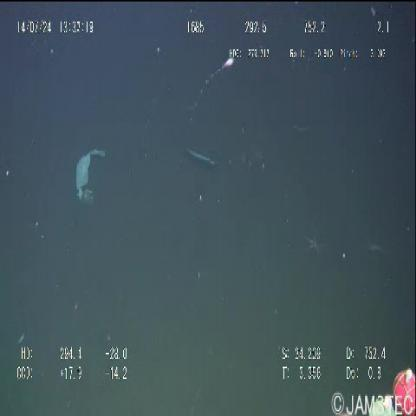Rác: (75, 149, 105, 205)
